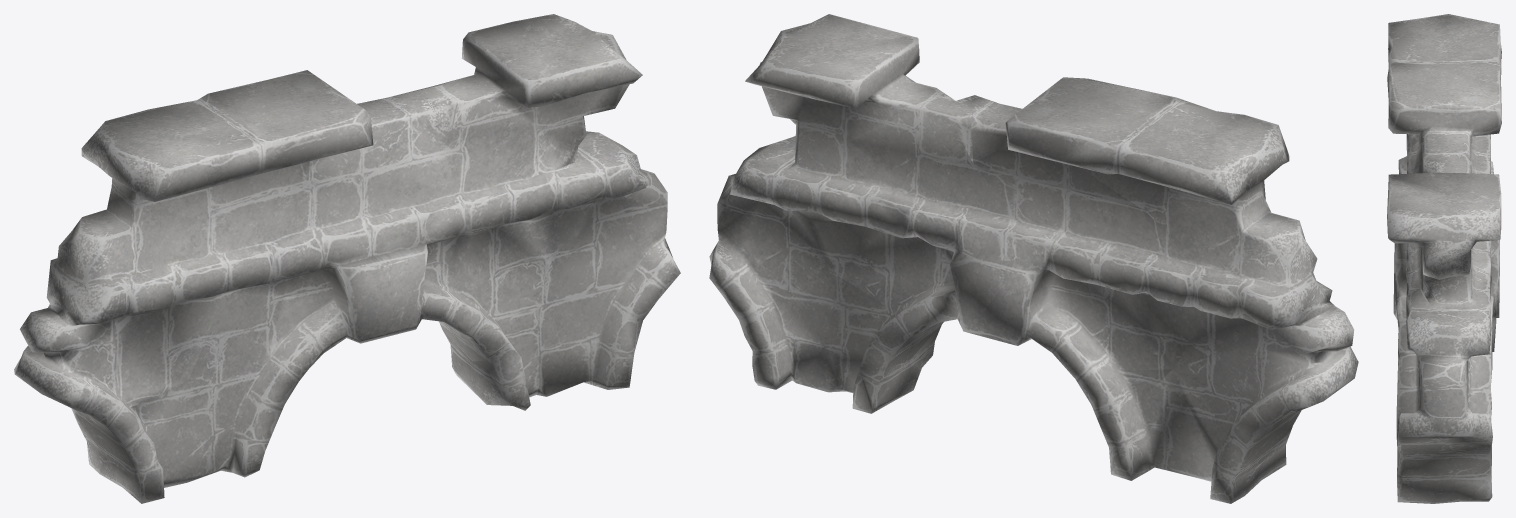
File: ArchBroken01.fbx
The picture shows the model from 3 angles, left to right: view 1: azimuth 30°, elevation 25°; view 2: azimuth 150°, elevation 25°; view 3: azimuth 270°, elevation 25°; orthographic projection. The views are drawn at different scales.
Visible parts, largest first — view 1: ArchBroken01_LOD0; view 2: ArchBroken01_LOD0; view 3: ArchBroken01_LOD0.
Part boxes in pixels (left/top/right/bottom): ArchBroken01_LOD0: left=14, top=14, right=680, bottom=503; ArchBroken01_LOD0: left=709, top=14, right=1358, bottom=503; ArchBroken01_LOD0: left=1387, top=14, right=1501, bottom=503.
Size of what is drawn, in the model's own units: 712 by 365 by 131.
